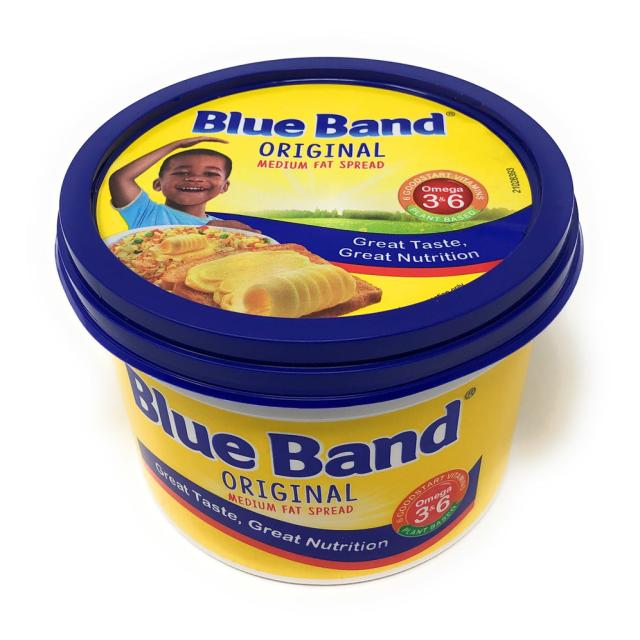butter: (33, 36, 638, 603)
